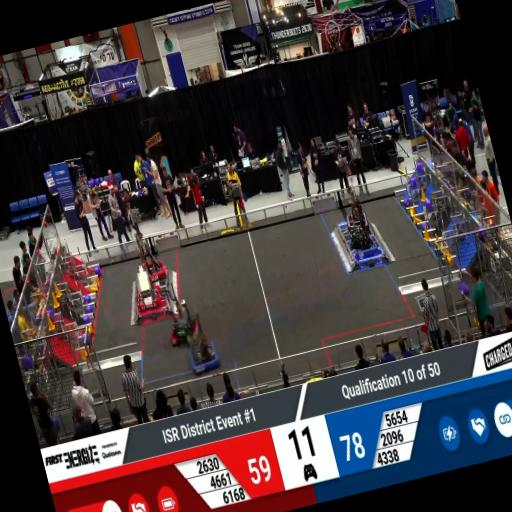robot: (185, 331, 224, 376), (133, 239, 169, 286), (166, 308, 204, 350), (346, 227, 380, 262), (131, 276, 164, 312), (342, 198, 372, 235)
